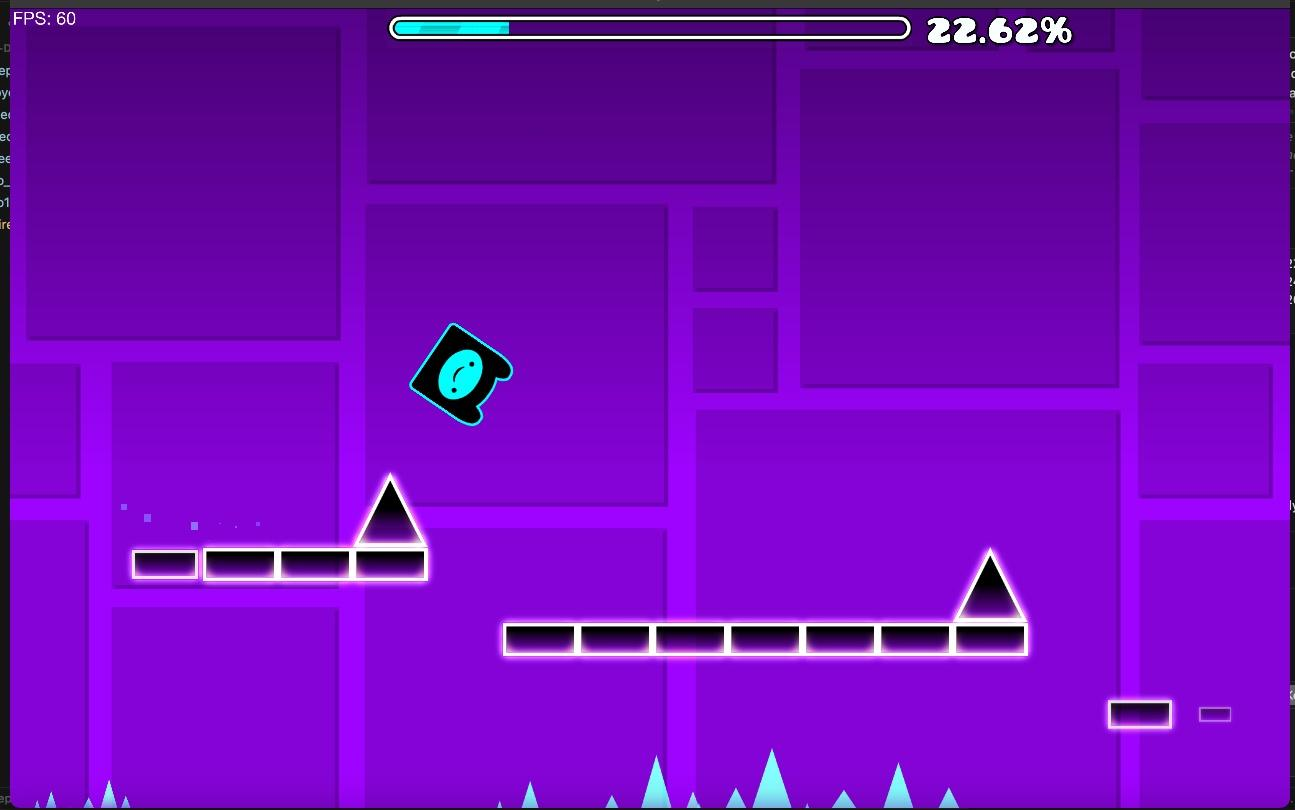platform: (501, 621, 956, 655), (131, 551, 352, 584), (1108, 700, 1171, 727)
player: (411, 323, 511, 425)
spike: (358, 475, 425, 544), (956, 552, 1022, 620), (749, 751, 790, 807), (644, 764, 668, 806), (885, 766, 910, 806), (103, 780, 128, 809), (522, 783, 537, 807), (829, 791, 853, 806), (726, 788, 745, 805), (939, 790, 957, 806), (47, 793, 56, 808), (688, 795, 698, 806), (85, 798, 94, 809)
